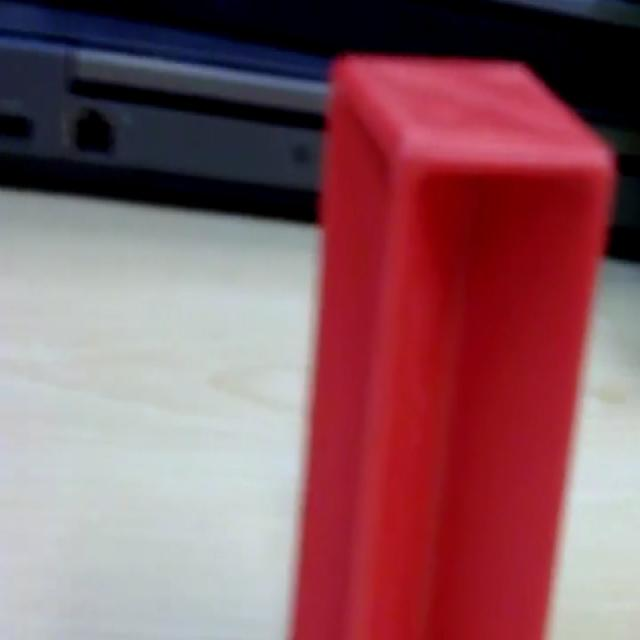red_block: (287, 51, 619, 636)
